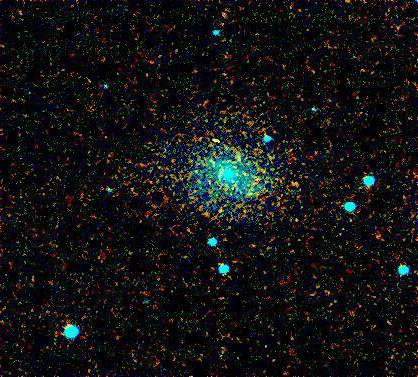star: (202, 124, 232, 154)
